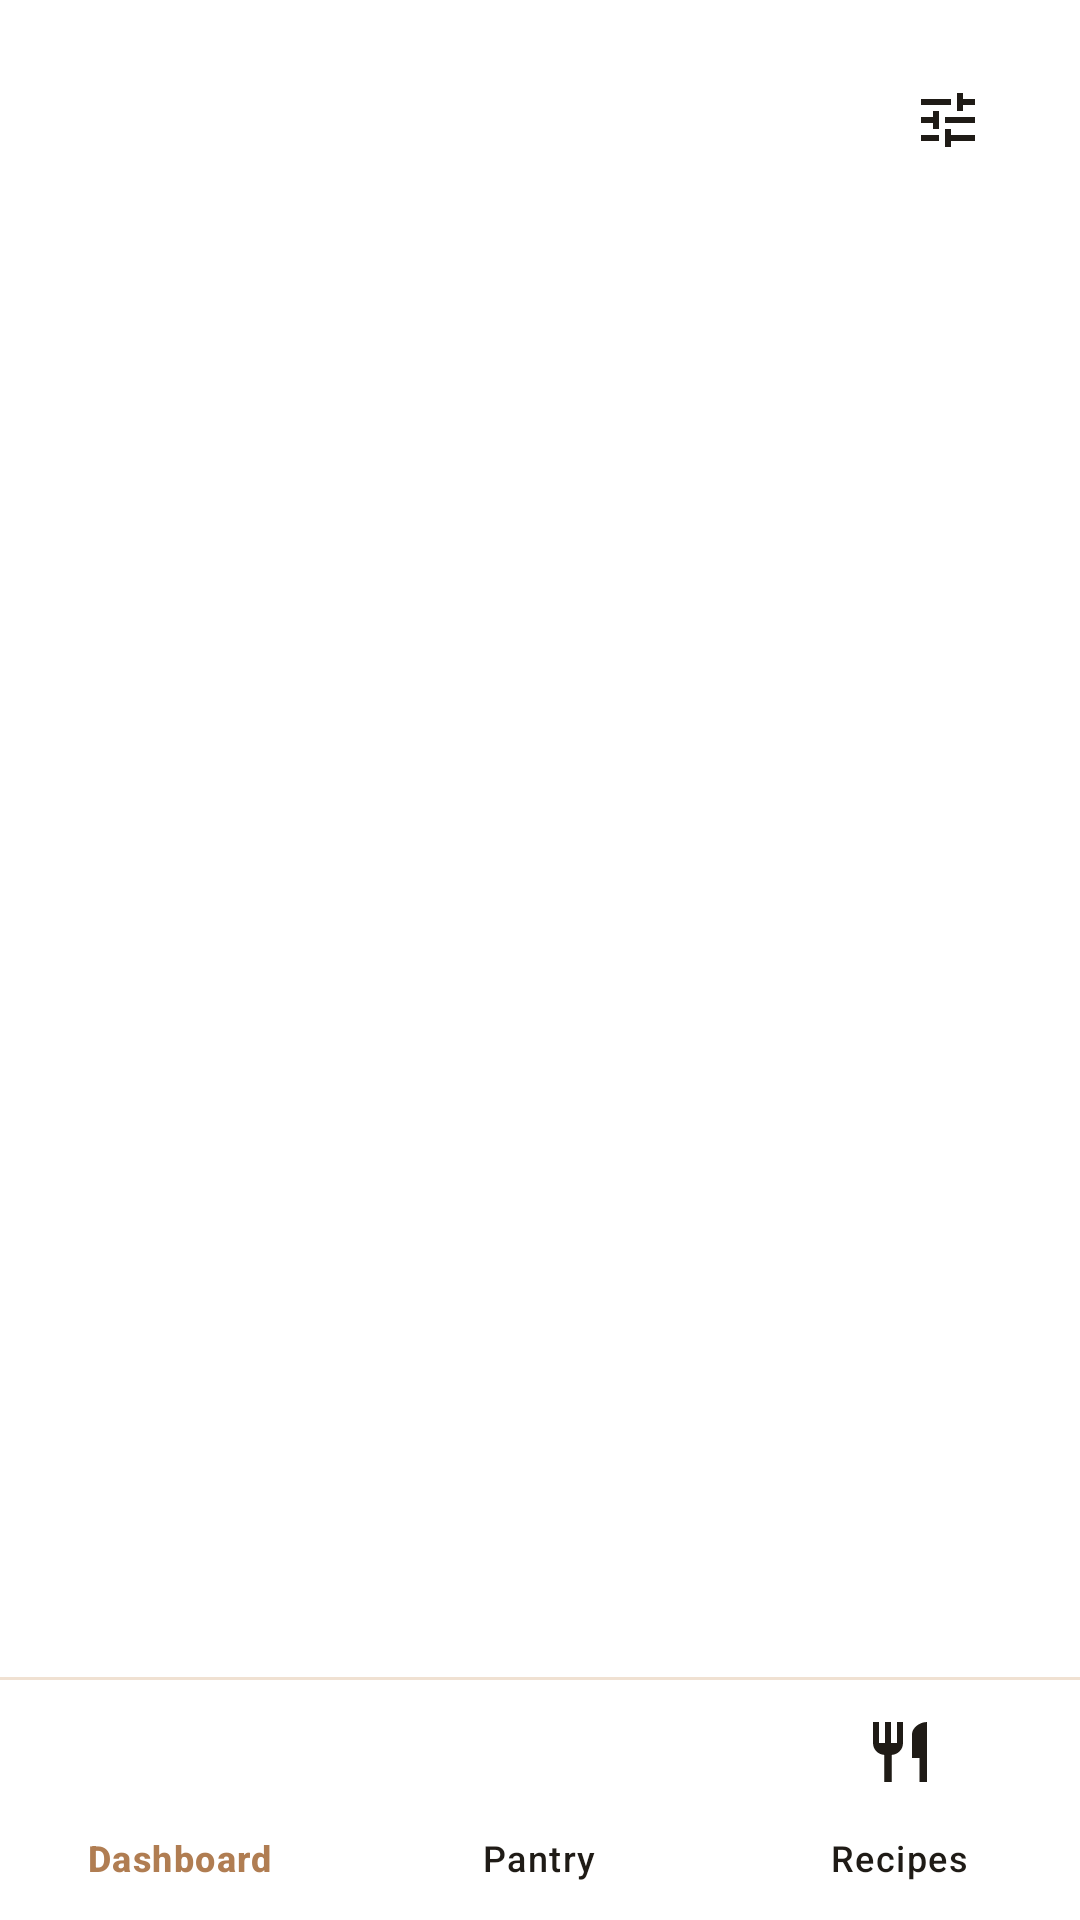

Where icons sit on this 1080x1920 app screen, as (x1, y1, x2, y2):
Open settings: (921, 93, 975, 147)
